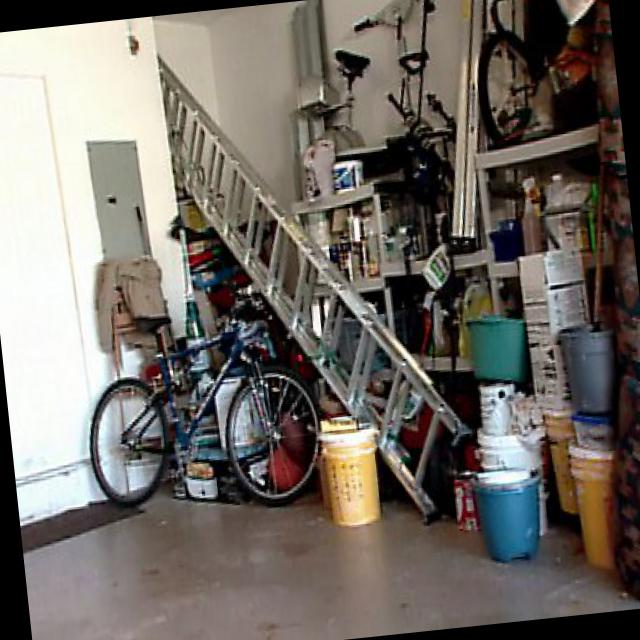bicycle: (479, 26, 541, 144)
bicycle wheel: (91, 313, 324, 503)
box of tea: (519, 243, 592, 414), (572, 445, 620, 570), (576, 409, 617, 448)
bucket crop: (473, 464, 541, 561), (325, 419, 381, 523), (559, 318, 620, 411)
ceiling beam: (154, 6, 244, 25)
door bars: (0, 73, 99, 476)
floor -X: (23, 390, 640, 640)
ladder crop: (160, 52, 475, 521)
pot hanger: (332, 156, 365, 190)
rug -partially obscured-: (21, 495, 145, 553)
shelves crop: (291, 113, 640, 503)
wall clock: (209, 0, 640, 461), (0, 16, 204, 527), (154, 15, 250, 392)
